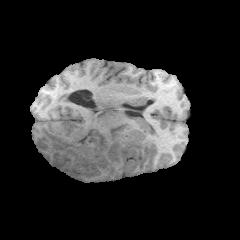glioma: (40, 122, 145, 178)
